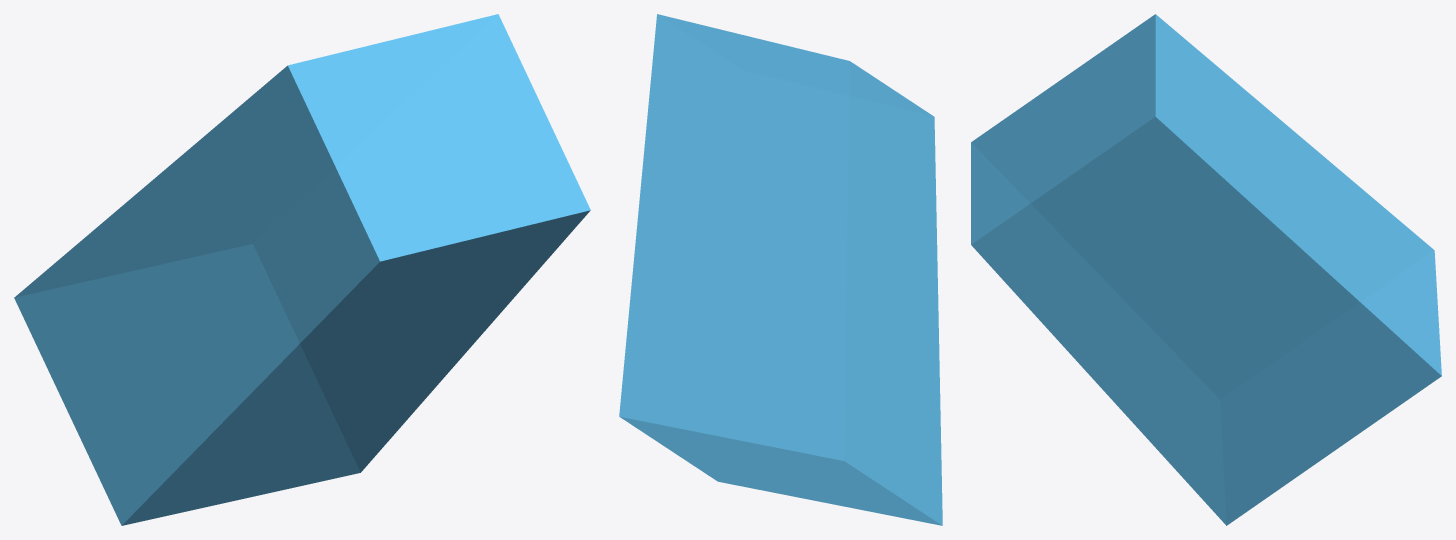
The model's file is Event_420604493_HBrechit_9.fbx.
The picture shows the model from 3 angles, left to right: view 1: azimuth 30°, elevation 25°; view 2: azimuth 150°, elevation 25°; view 3: azimuth 270°, elevation 25°; orthographic projection. The views are drawn at different scales.
Parts seen in each view (by area): view 1: Model; view 2: Model; view 3: Model.
Part boxes in pixels (bbox=[...]): Model: bbox=[14, 14, 590, 525]; Model: bbox=[619, 14, 942, 525]; Model: bbox=[971, 14, 1441, 525].
Bounding box in the file's own units: 0.6857 × 0.8749 × 0.8133.
